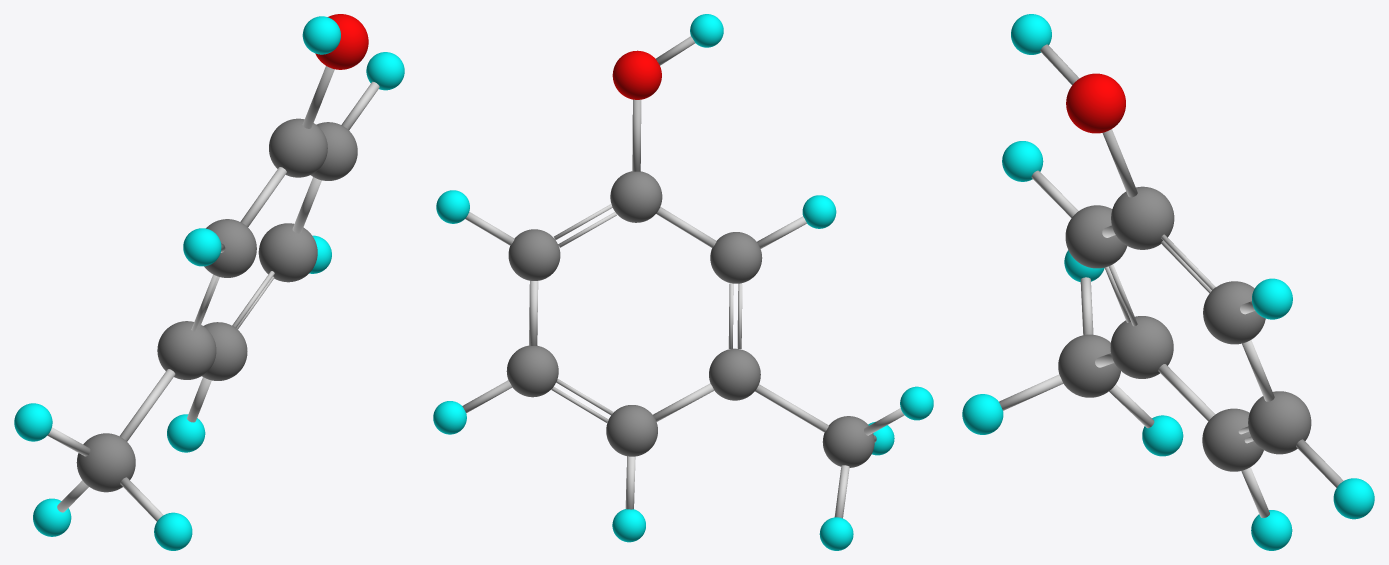
The model's file is m-cresol.glb.
The picture shows the model from 3 angles, left to right: view 1: azimuth 30°, elevation 25°; view 2: azimuth 150°, elevation 25°; view 3: azimuth 270°, elevation 25°; orthographic projection. The views are drawn at different scales.
Parts seen in each view (by area): view 1: CMAtom_0; view 2: CMAtom_0; view 3: CMAtom_0.
Part boxes in pixels (left/top/right/bottom): CMAtom_0: left=14, top=14, right=404, bottom=550; CMAtom_0: left=433, top=14, right=933, bottom=550; CMAtom_0: left=962, top=14, right=1374, bottom=550.
Size of the model in its own units: 0.57 by 0.5886 by 0.4016.
